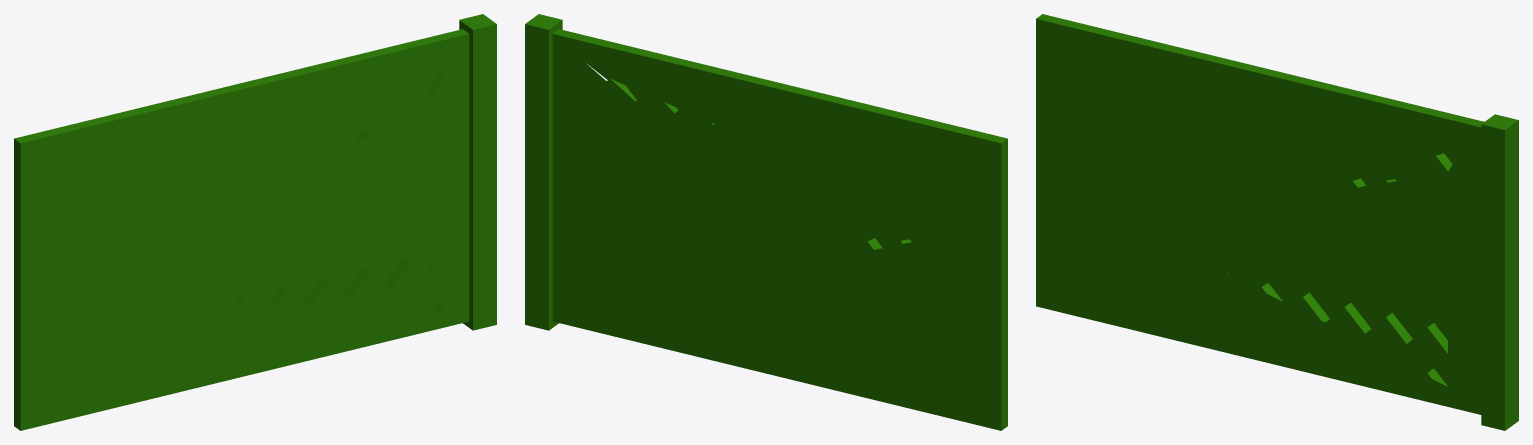
File: fenceGREEN.fbx
3 views of the same model, side by side, from view 1: azimuth 30°, elevation 25°; view 2: azimuth 150°, elevation 25°; view 3: azimuth 330°, elevation 25° (orthographic).
Visible parts, largest first — view 1: fenceGREEN; view 2: fenceGREEN; view 3: fenceGREEN.
Boxes of the visible parts, left/top/right/bottom form: fenceGREEN: left=14, top=14, right=496, bottom=430; fenceGREEN: left=525, top=14, right=1007, bottom=430; fenceGREEN: left=1036, top=14, right=1518, bottom=430.
Bounding box in the file's own units: 121 × 73.57 × 6.12.
